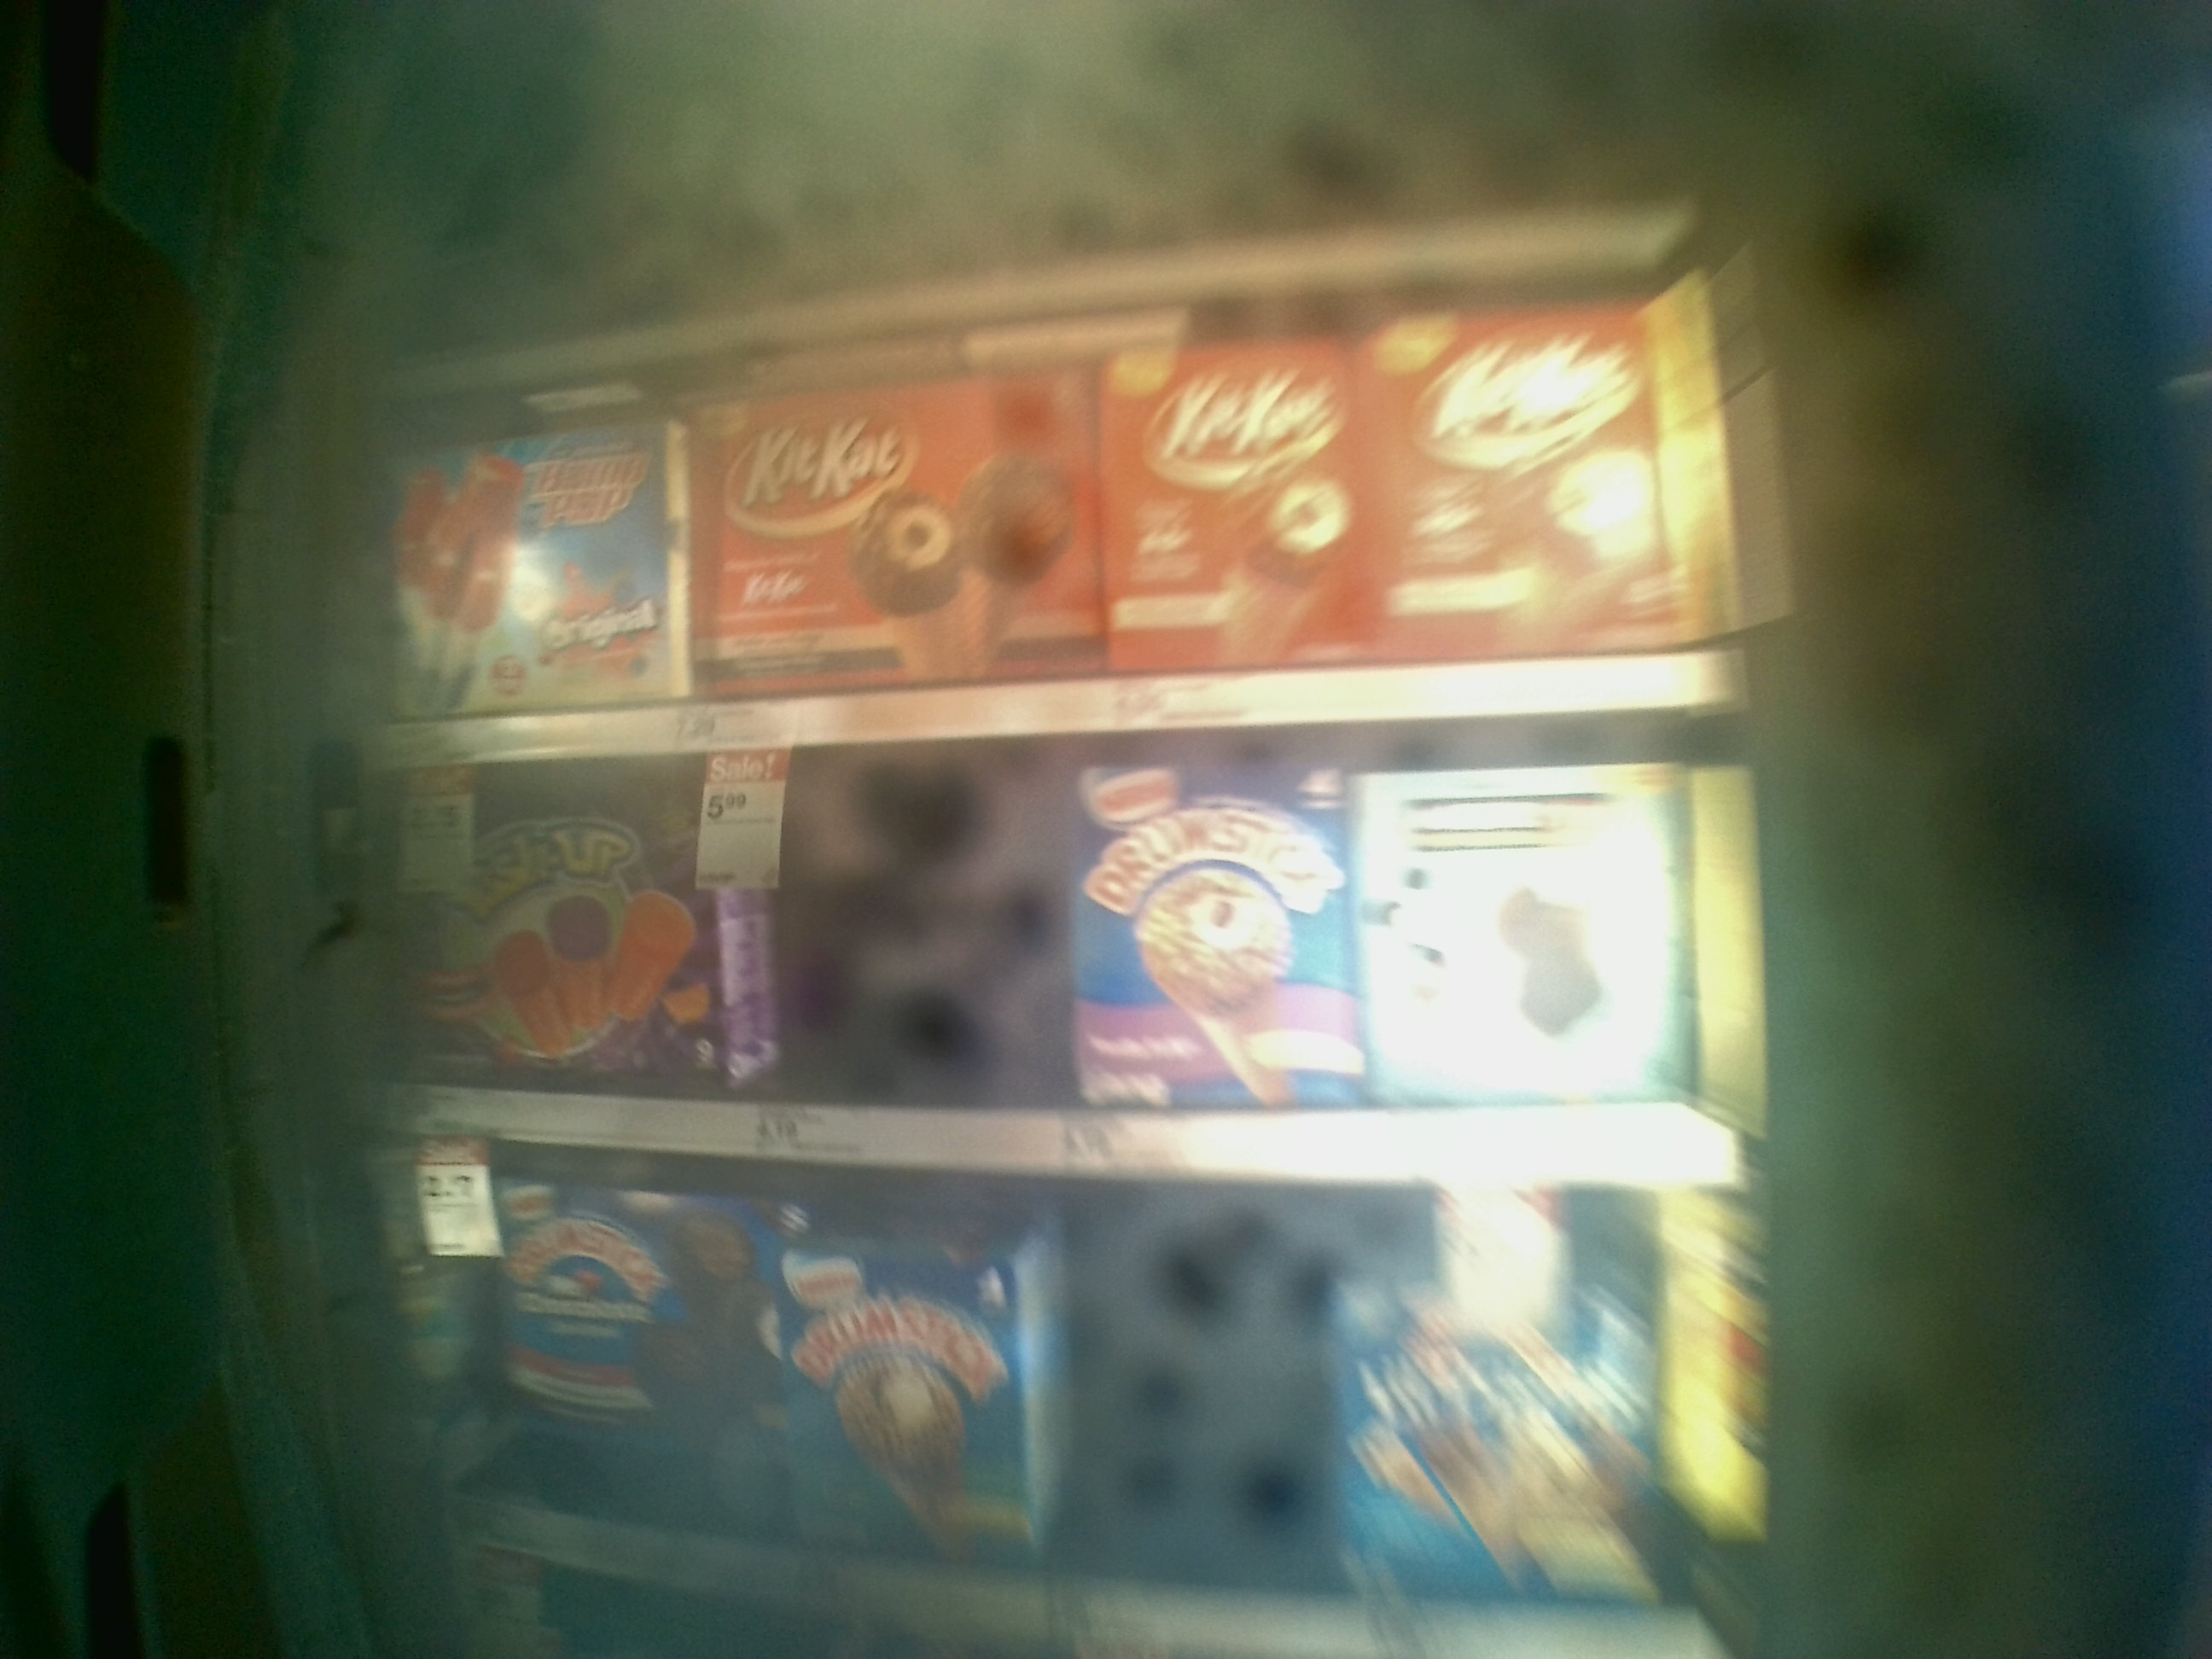shelf: (348, 706, 1770, 1183), (355, 282, 1737, 762)
